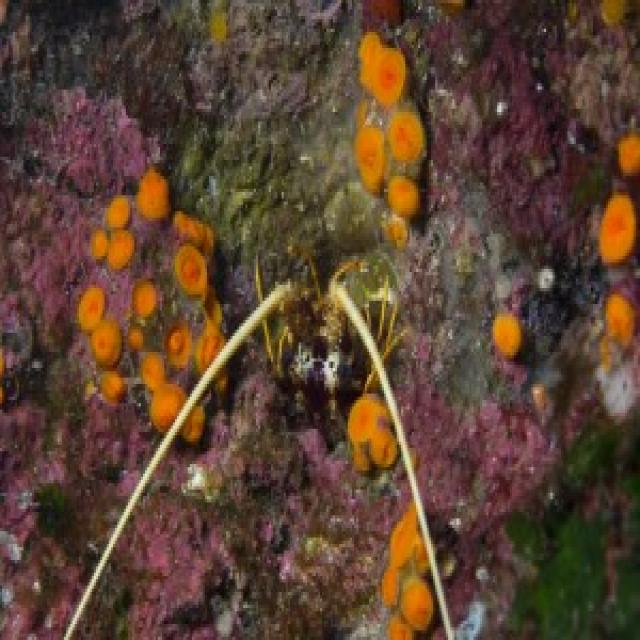lobsters: (164, 140, 560, 574)
